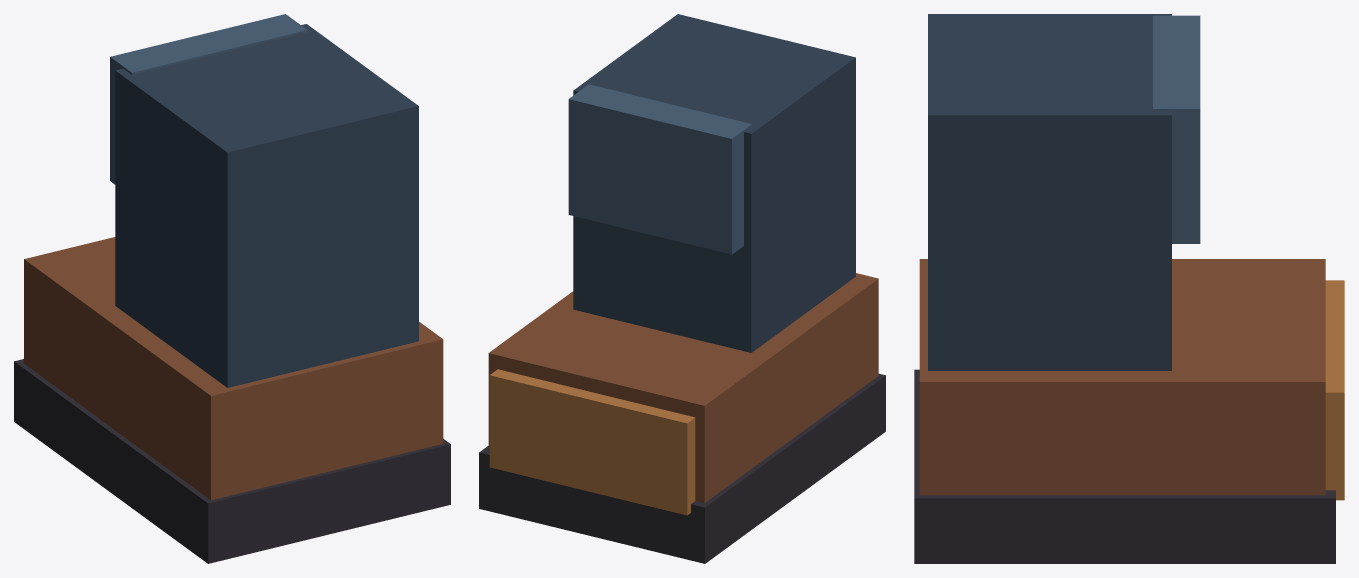
File: shin.glb
3 views of the same model, side by side, from view 1: azimuth 30°, elevation 25°; view 2: azimuth 150°, elevation 25°; view 3: azimuth 270°, elevation 25° (orthographic). The views are drawn at different scales.
Bounding box in the file's own units: 0.231 × 0.366 × 0.3265.
1 material, 1 textured.
